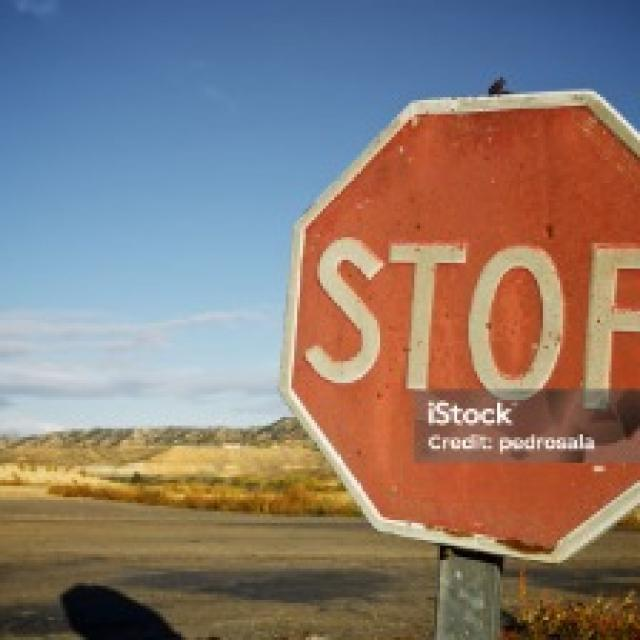stop: (278, 88, 638, 564)
